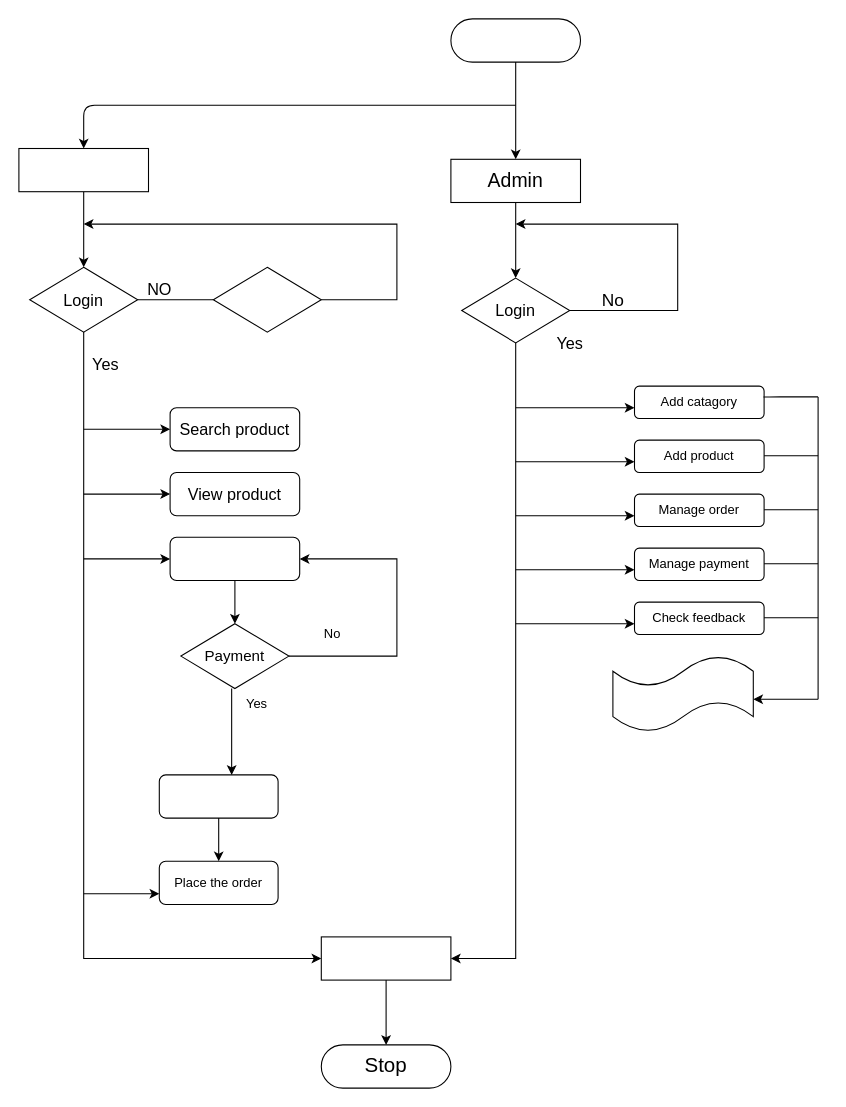
The diagram is 846 pixels wide and 1107 high, and some of its shapes have lost their labels. The shapes that lost their labels are listed below. From the top down, each one's box as (x1, y1, x2, y2) in pixels, then its label:
(450, 18, 580, 62): Start
(18, 147, 148, 192): User
(212, 266, 321, 332): Register
(169, 536, 300, 580): buy product
(612, 655, 753, 732): genearated Reports
(158, 774, 278, 818): Online payment
(320, 936, 451, 980): Log Out
